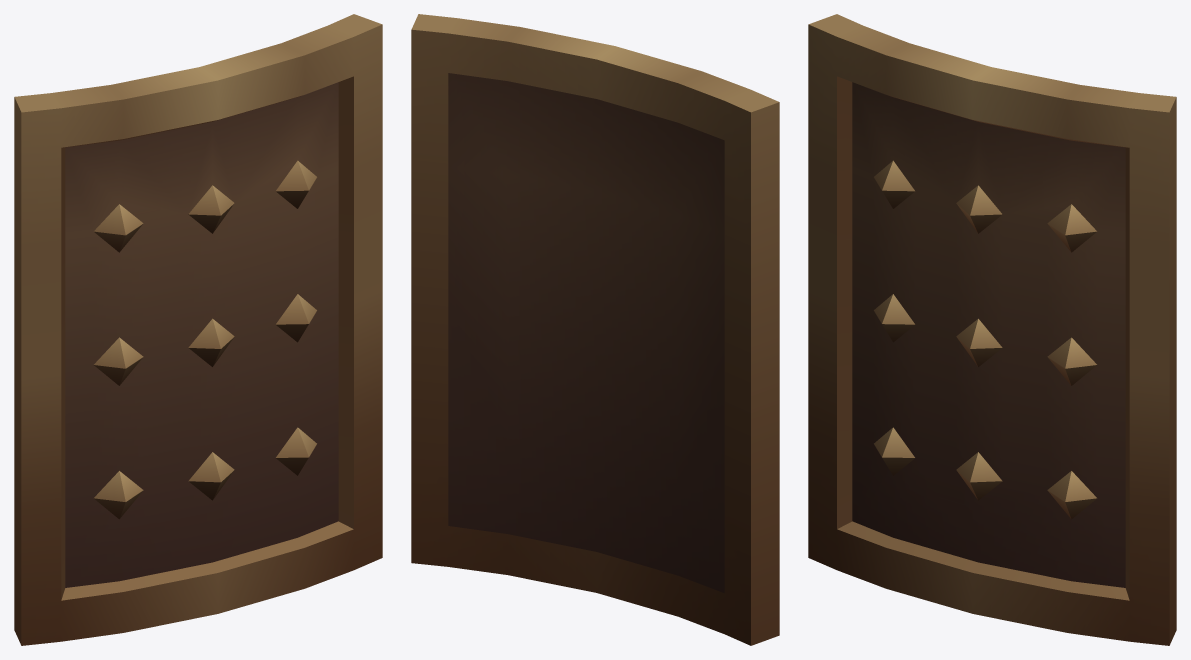
Rendered from Equip_Shield_08_2.FBX.
The picture shows the model from 3 angles, left to right: view 1: azimuth 30°, elevation 25°; view 2: azimuth 150°, elevation 25°; view 3: azimuth 330°, elevation 25°; orthographic projection.
Parts seen in each view (by area): view 1: Equip_Shield_08_2; view 2: Equip_Shield_08_2; view 3: Equip_Shield_08_2.
Boxes of the visible parts, box(x1,y1,x2,y2) form: Equip_Shield_08_2: box(14, 14, 382, 645); Equip_Shield_08_2: box(411, 14, 779, 645); Equip_Shield_08_2: box(808, 14, 1176, 645).
Bounding box in the file's own units: 46.44 × 65.57 × 8.19.
